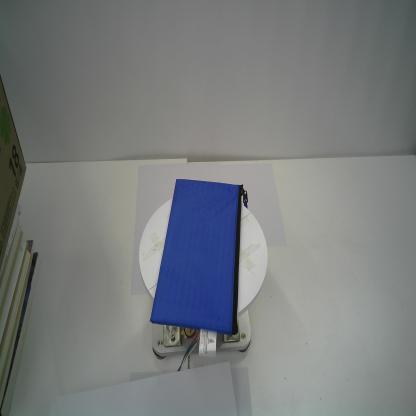Stationery: (150, 177, 249, 336)
